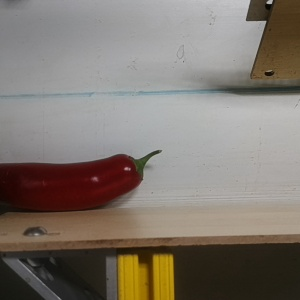Cut Point: (115, 152, 149, 188)
